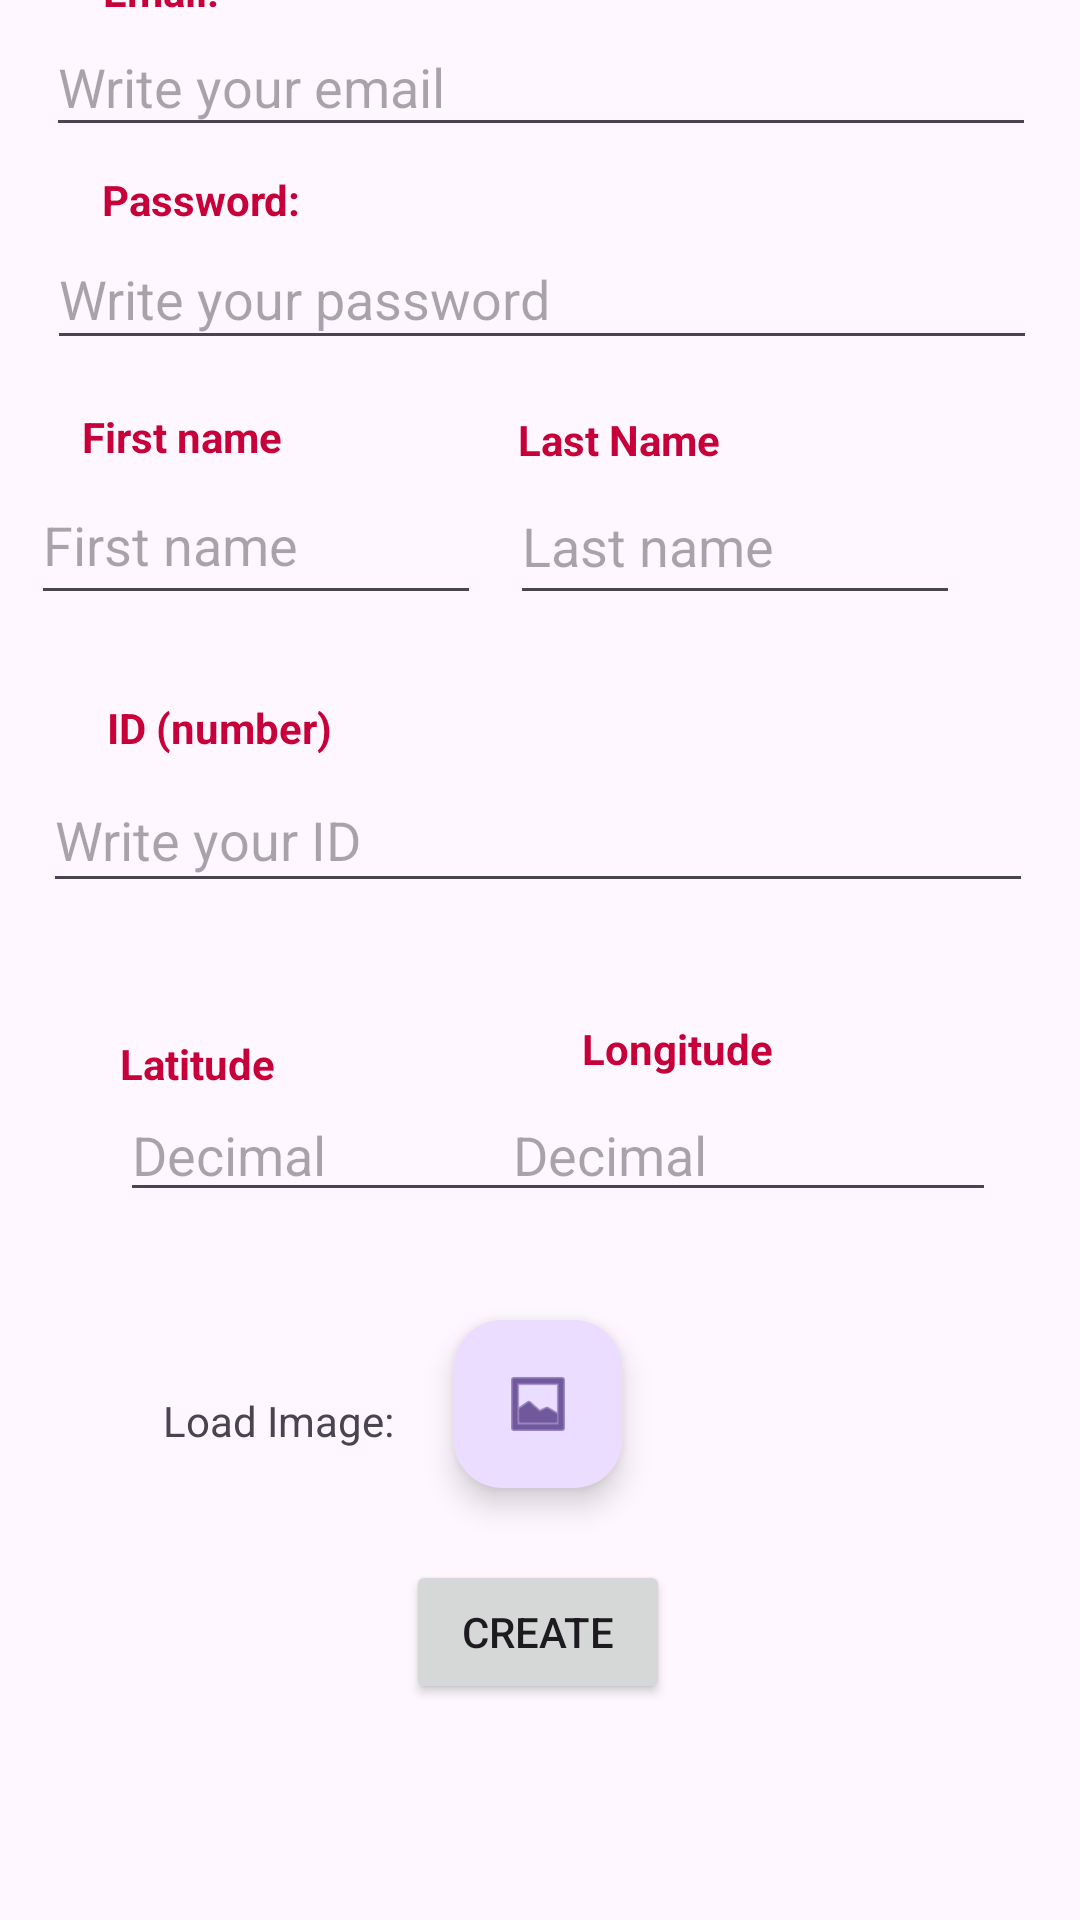

Icons on this 1080*1920 Android screen, each with its box as Rect(x1, y1, x2, y2):
gallery: Rect(454, 1320, 622, 1488)
